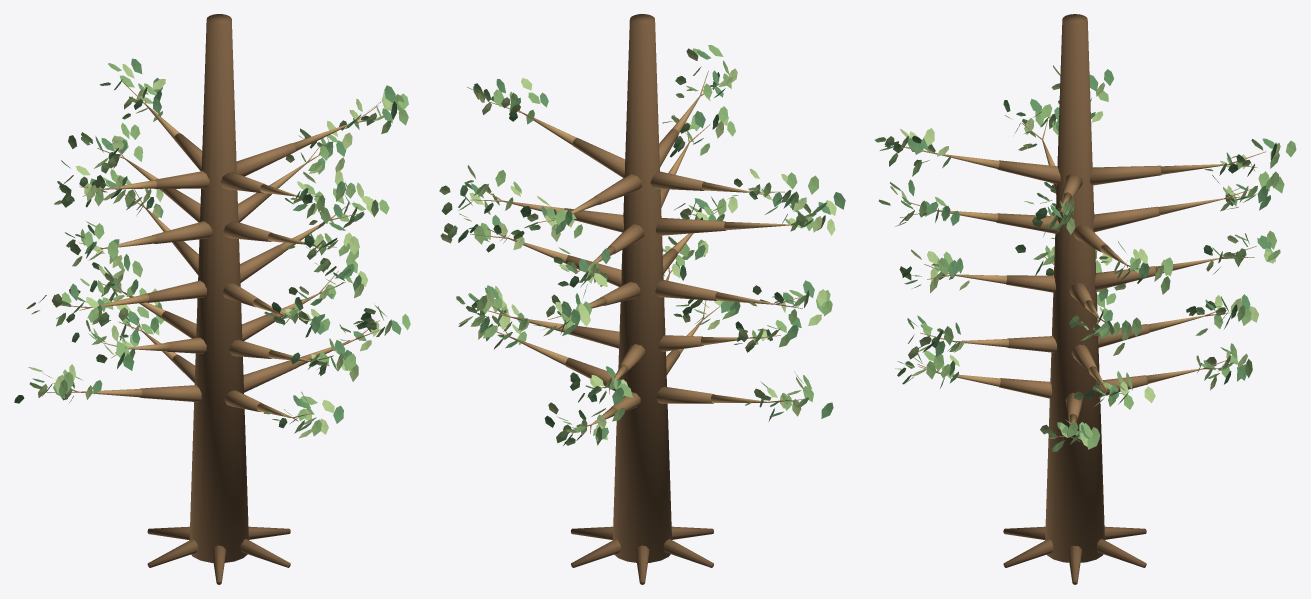
Rendered from leafy_tree_d.glb.
The picture shows the model from 3 angles, left to right: view 1: azimuth 30°, elevation 25°; view 2: azimuth 150°, elevation 25°; view 3: azimuth 270°, elevation 25°; orthographic projection.
Parts seen in each view (by area): view 1: leafy_tree_d_trunk, leafy_tree_d_branch_4_0_a, leafy_tree_d_branch_0_2_a, leafy_tree_d_branch_2_2_a, leafy_tree_d_branch_3_2_a, leafy_tree_d_branch_0_0_a, leafy_tree_d_branch_4_2_a, leafy_tree_d_branch_3_3_a, leafy_tree_d_branch_2_0_a, leafy_tree_d_branch_4_3_a, leafy_tree_d_branch_1_3_a, leafy_tree_d_branch_3_1_a (+3 smaller); view 2: leafy_tree_d_trunk, leafy_tree_d_branch_3_2_a, leafy_tree_d_branch_2_2_a, leafy_tree_d_branch_4_0_a, leafy_tree_d_branch_0_2_a, leafy_tree_d_branch_3_0_a, leafy_tree_d_branch_4_2_a, leafy_tree_d_branch_4_1_a, leafy_tree_d_branch_1_0_a, leafy_tree_d_branch_1_2_a, leafy_tree_d_branch_0_0_a, root_3 (+3 smaller); view 3: leafy_tree_d_trunk, leafy_tree_d_branch_4_1_a, leafy_tree_d_branch_3_1_a, leafy_tree_d_branch_4_3_a, leafy_tree_d_branch_3_3_a, leafy_tree_d_branch_0_3_a, leafy_tree_d_branch_2_1_a, leafy_tree_d_branch_2_3_a, leafy_tree_d_branch_1_3_a, root_5, root_1.
Part boxes in pixels (box(x1,y1,x2,y2)): leafy_tree_d_trunk: box(189, 14, 248, 562); leafy_tree_d_branch_4_0_a: box(236, 143, 295, 176); leafy_tree_d_branch_0_2_a: box(140, 385, 201, 402); leafy_tree_d_branch_2_2_a: box(146, 280, 206, 302); leafy_tree_d_branch_3_2_a: box(152, 221, 212, 243); leafy_tree_d_branch_0_0_a: box(243, 360, 297, 392); leafy_tree_d_branch_4_2_a: box(154, 171, 209, 189); leafy_tree_d_branch_3_3_a: box(223, 221, 272, 241); leafy_tree_d_branch_2_0_a: box(240, 245, 283, 282); leafy_tree_d_branch_4_3_a: box(220, 172, 265, 193); leafy_tree_d_branch_1_3_a: box(229, 339, 272, 358); leafy_tree_d_branch_3_1_a: box(162, 189, 200, 222); leafy_tree_d_trunk: box(612, 14, 671, 562); leafy_tree_d_branch_3_2_a: box(655, 218, 725, 235); leafy_tree_d_branch_2_2_a: box(655, 279, 718, 300); leafy_tree_d_branch_4_0_a: box(572, 137, 625, 177); leafy_tree_d_branch_0_2_a: box(656, 386, 714, 403); leafy_tree_d_branch_3_0_a: box(564, 208, 623, 232); leafy_tree_d_branch_4_2_a: box(650, 171, 704, 190); leafy_tree_d_branch_4_1_a: box(594, 174, 641, 204); leafy_tree_d_branch_1_0_a: box(568, 326, 619, 348); leafy_tree_d_branch_1_2_a: box(658, 335, 703, 351); leafy_tree_d_branch_0_0_a: box(565, 357, 615, 390); root_3: box(663, 539, 713, 567); leafy_tree_d_trunk: box(1045, 14, 1104, 562); leafy_tree_d_branch_4_1_a: box(1089, 165, 1161, 185); leafy_tree_d_branch_3_1_a: box(1093, 206, 1159, 232); leafy_tree_d_branch_4_3_a: box(997, 160, 1060, 184); leafy_tree_d_branch_3_3_a: box(996, 213, 1059, 233); leafy_tree_d_branch_0_3_a: box(999, 378, 1051, 398); leafy_tree_d_branch_2_1_a: box(1094, 266, 1155, 290); leafy_tree_d_branch_2_3_a: box(1006, 275, 1055, 292); leafy_tree_d_branch_1_3_a: box(1007, 336, 1056, 352); root_5: box(1003, 539, 1053, 567); root_1: box(1096, 539, 1146, 567).
Size of the model in its own units: 4.06 by 5.42 by 3.9.
